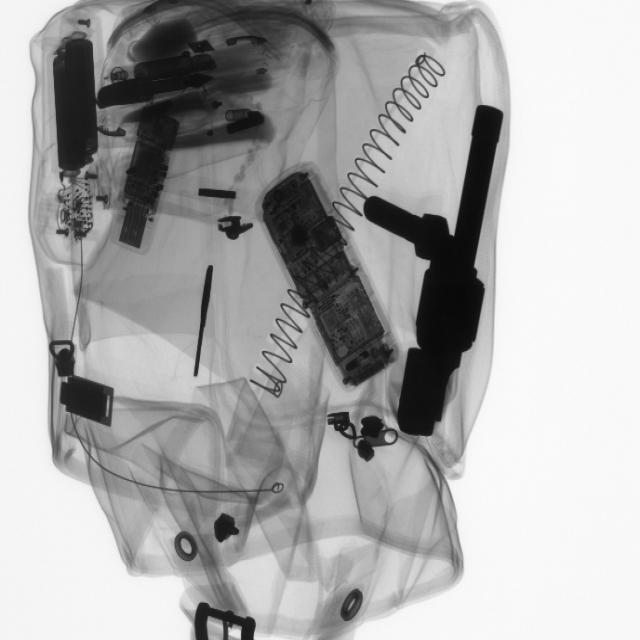GUN: (393, 101, 507, 445)
